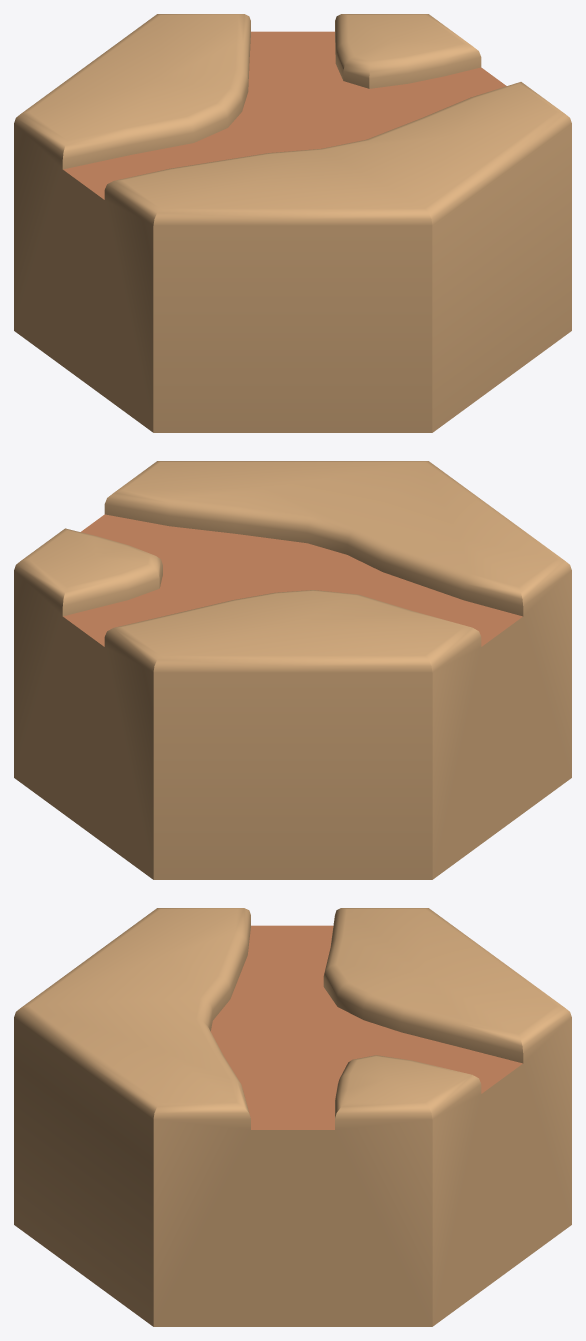
Rendered from hex_sand_roadF.glb.
3 views of the same model, one above another, from view 1: azimuth 30°, elevation 25°; view 2: azimuth 150°, elevation 25°; view 3: azimuth 270°, elevation 25° (orthographic).
Visible parts, largest first — view 1: hex_sand_roadF; view 2: hex_sand_roadF; view 3: hex_sand_roadF.
Part boxes in pixels (left/top/right/bottom): hex_sand_roadF: left=14, top=14, right=571, bottom=432; hex_sand_roadF: left=14, top=461, right=571, bottom=879; hex_sand_roadF: left=14, top=908, right=571, bottom=1326.
Size of the model in its own units: 3.43 by 1.72 by 3.96.
